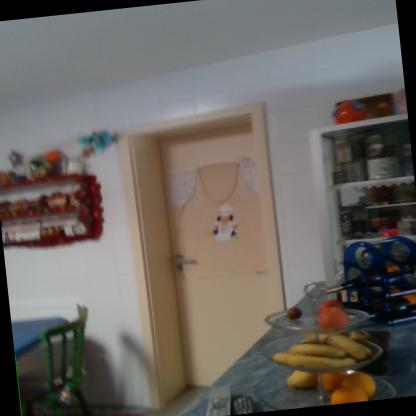closed: (112, 96, 310, 398)
